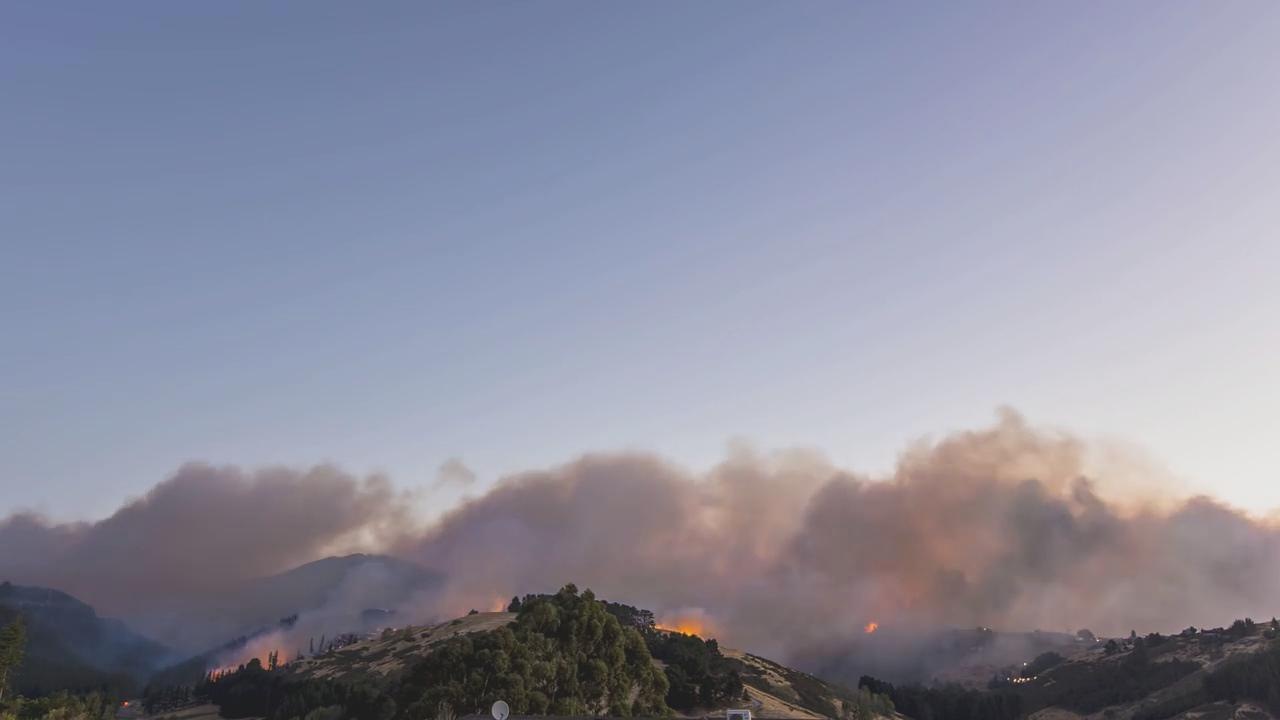fire: (657, 622, 714, 644), (865, 623, 877, 633)
